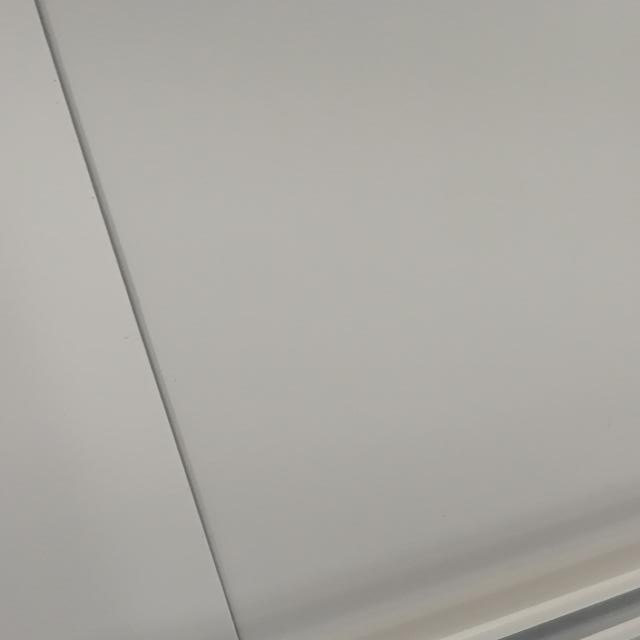fluorescent tube: (38, 443, 640, 640)
